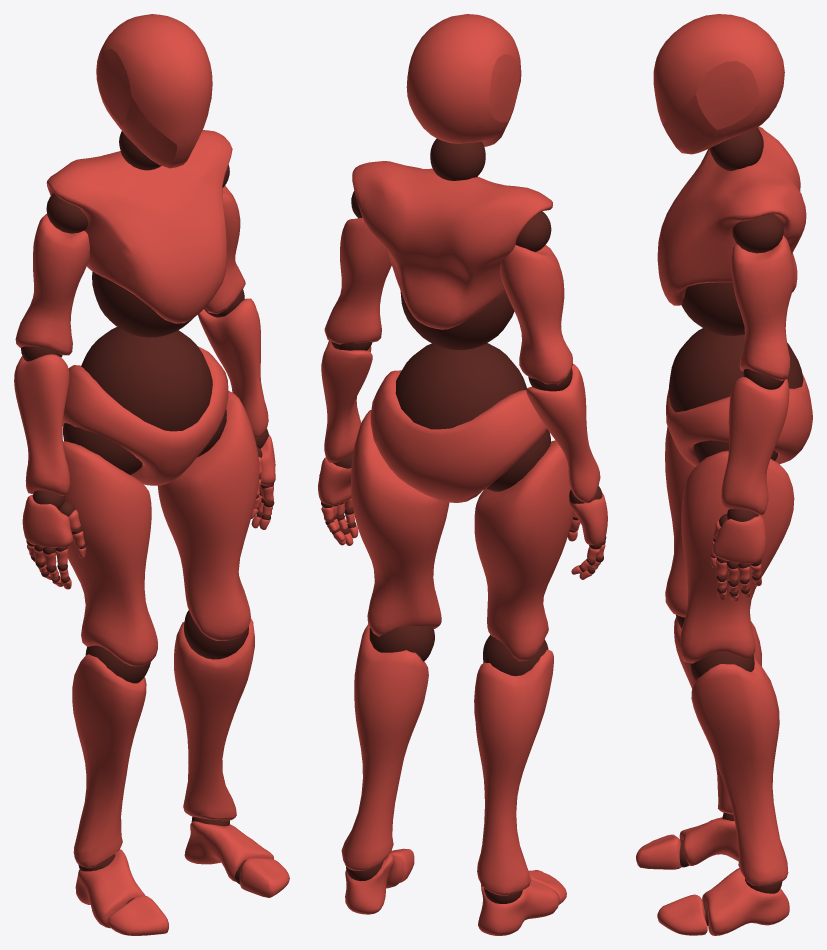
3 renders of one model, left to right at view 1: azimuth 30°, elevation 25°; view 2: azimuth 150°, elevation 25°; view 3: azimuth 270°, elevation 25°, orthographic. The views are drawn at different scales.
Visible parts, largest first — view 1: Beta_Surface, Beta_Joints; view 2: Beta_Surface, Beta_Joints; view 3: Beta_Surface, Beta_Joints.
Part boxes in pixels (x1,y1,x2,y2): Beta_Surface: (14,14,289,935); Beta_Joints: (21,131,274,903); Beta_Surface: (318,14,607,935); Beta_Joints: (321,138,606,903); Beta_Surface: (636,14,812,935); Beta_Joints: (669,127,803,925).
Size of the model in its own units: 0.5599 by 1.8 by 0.3331.
